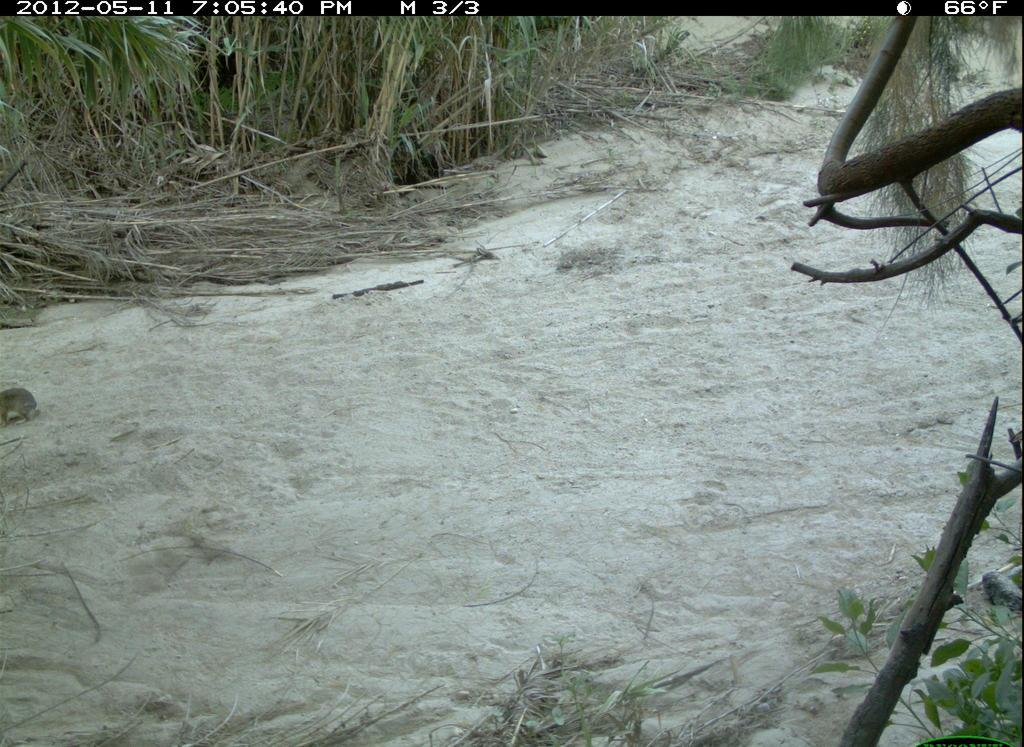rabbit: (1, 381, 45, 430)
